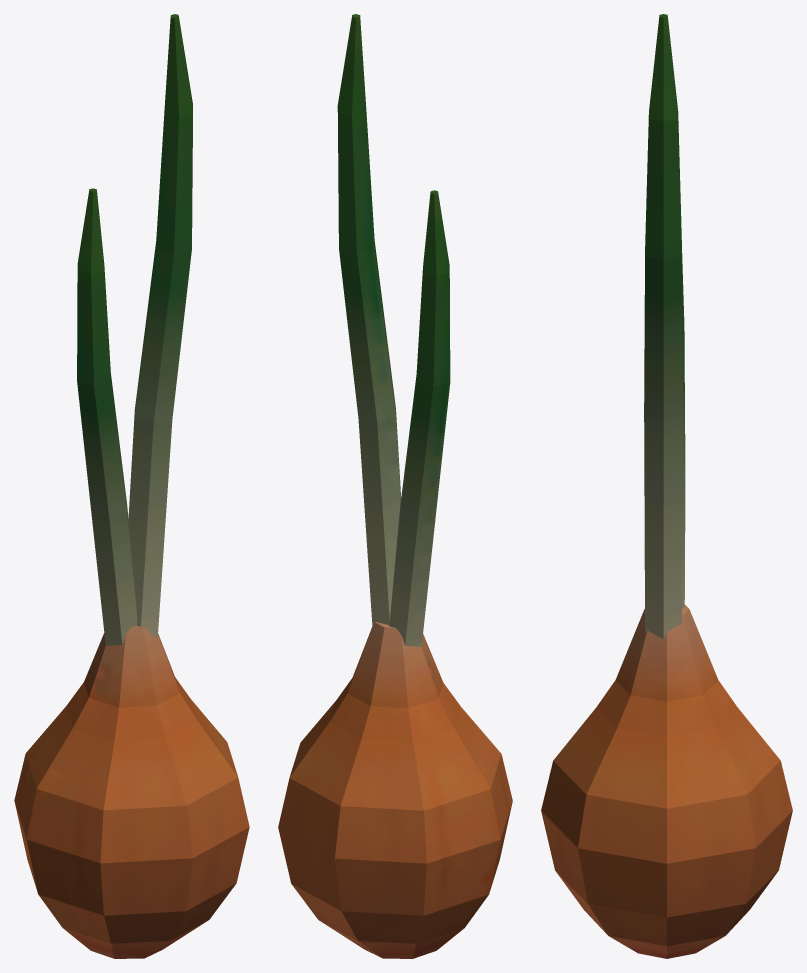
Rendered from Onion_01.obj.
3 renders of one model, left to right at view 1: azimuth 30°, elevation 25°; view 2: azimuth 150°, elevation 25°; view 3: azimuth 270°, elevation 25°, orthographic. The views are drawn at different scales.
Bounding box in the file's own units: 0.0818 × 0.3405 × 0.0818.
1 material, 1 textured.
